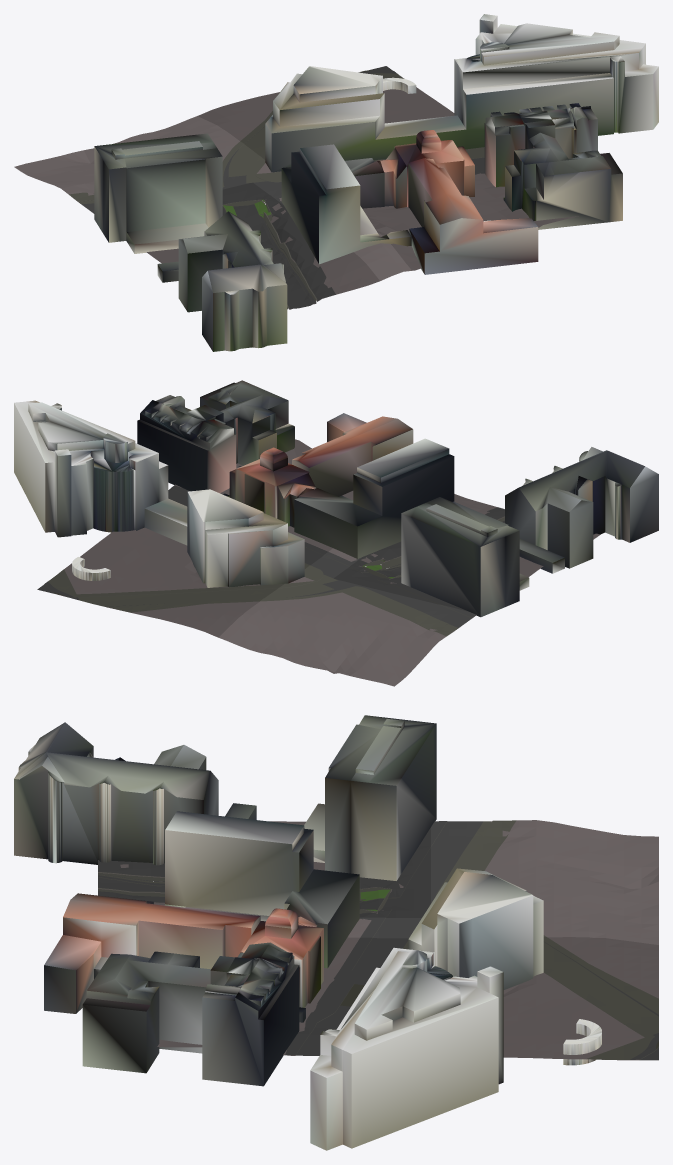
The picture shows the model from 3 angles, top to bottom: view 1: azimuth 30°, elevation 25°; view 2: azimuth 150°, elevation 25°; view 3: azimuth 270°, elevation 25°; orthographic projection. The views are drawn at different scales.
Parts seen in each view (by area): view 1: c_m11_p01, append:c_m11_p01; view 2: c_m11_p01, append:c_m11_p01; view 3: c_m11_p01, append:c_m11_p01.
Boxes of the visible parts, box(x1,y1,x2,y2) form: c_m11_p01: box(79, 14, 658, 351); append:c_m11_p01: box(14, 116, 411, 280); c_m11_p01: box(14, 380, 658, 637); append:c_m11_p01: box(218, 494, 476, 686); c_m11_p01: box(14, 715, 658, 1150); append:c_m11_p01: box(348, 820, 658, 944).
Bounding box in the file's own units: 191 × 34.53 × 147.
